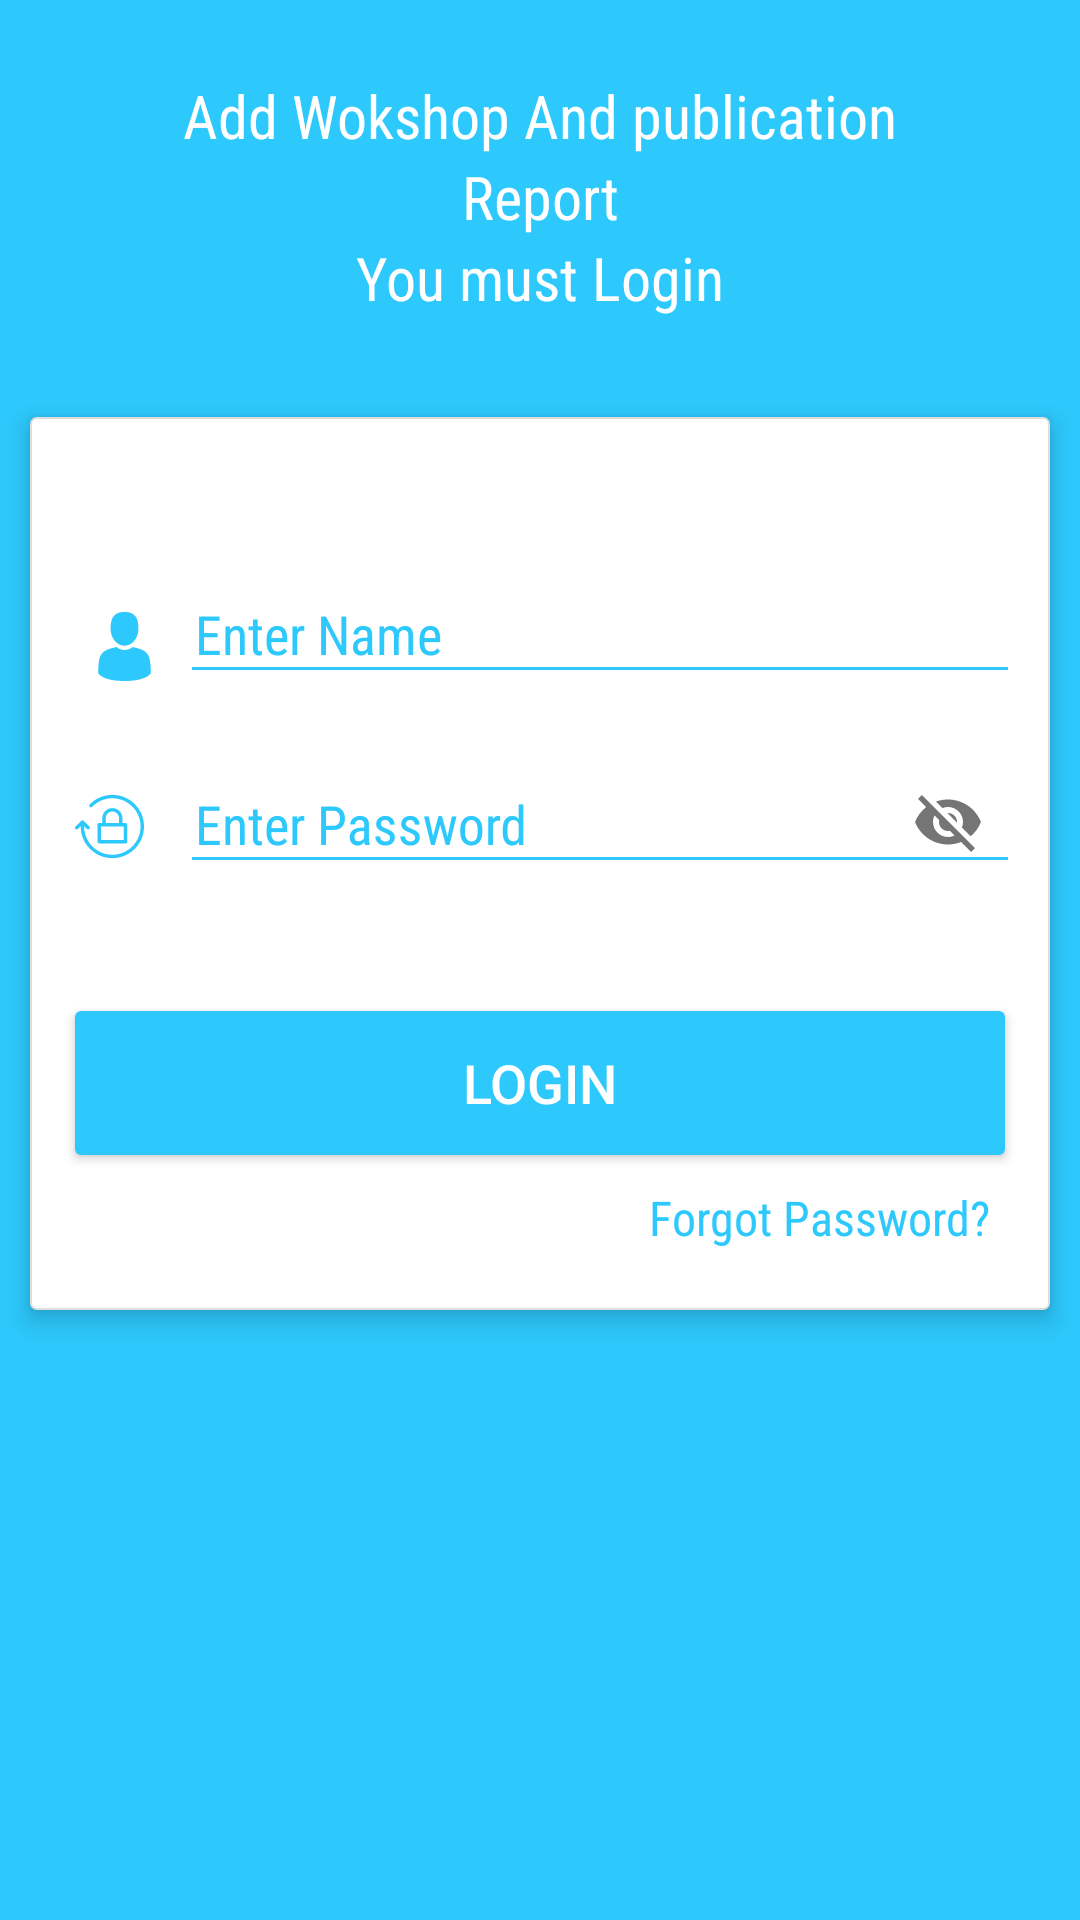

Where to tap for icons on this 1080*1920 app screen, as point (x, y):
user name: point (124, 646)
